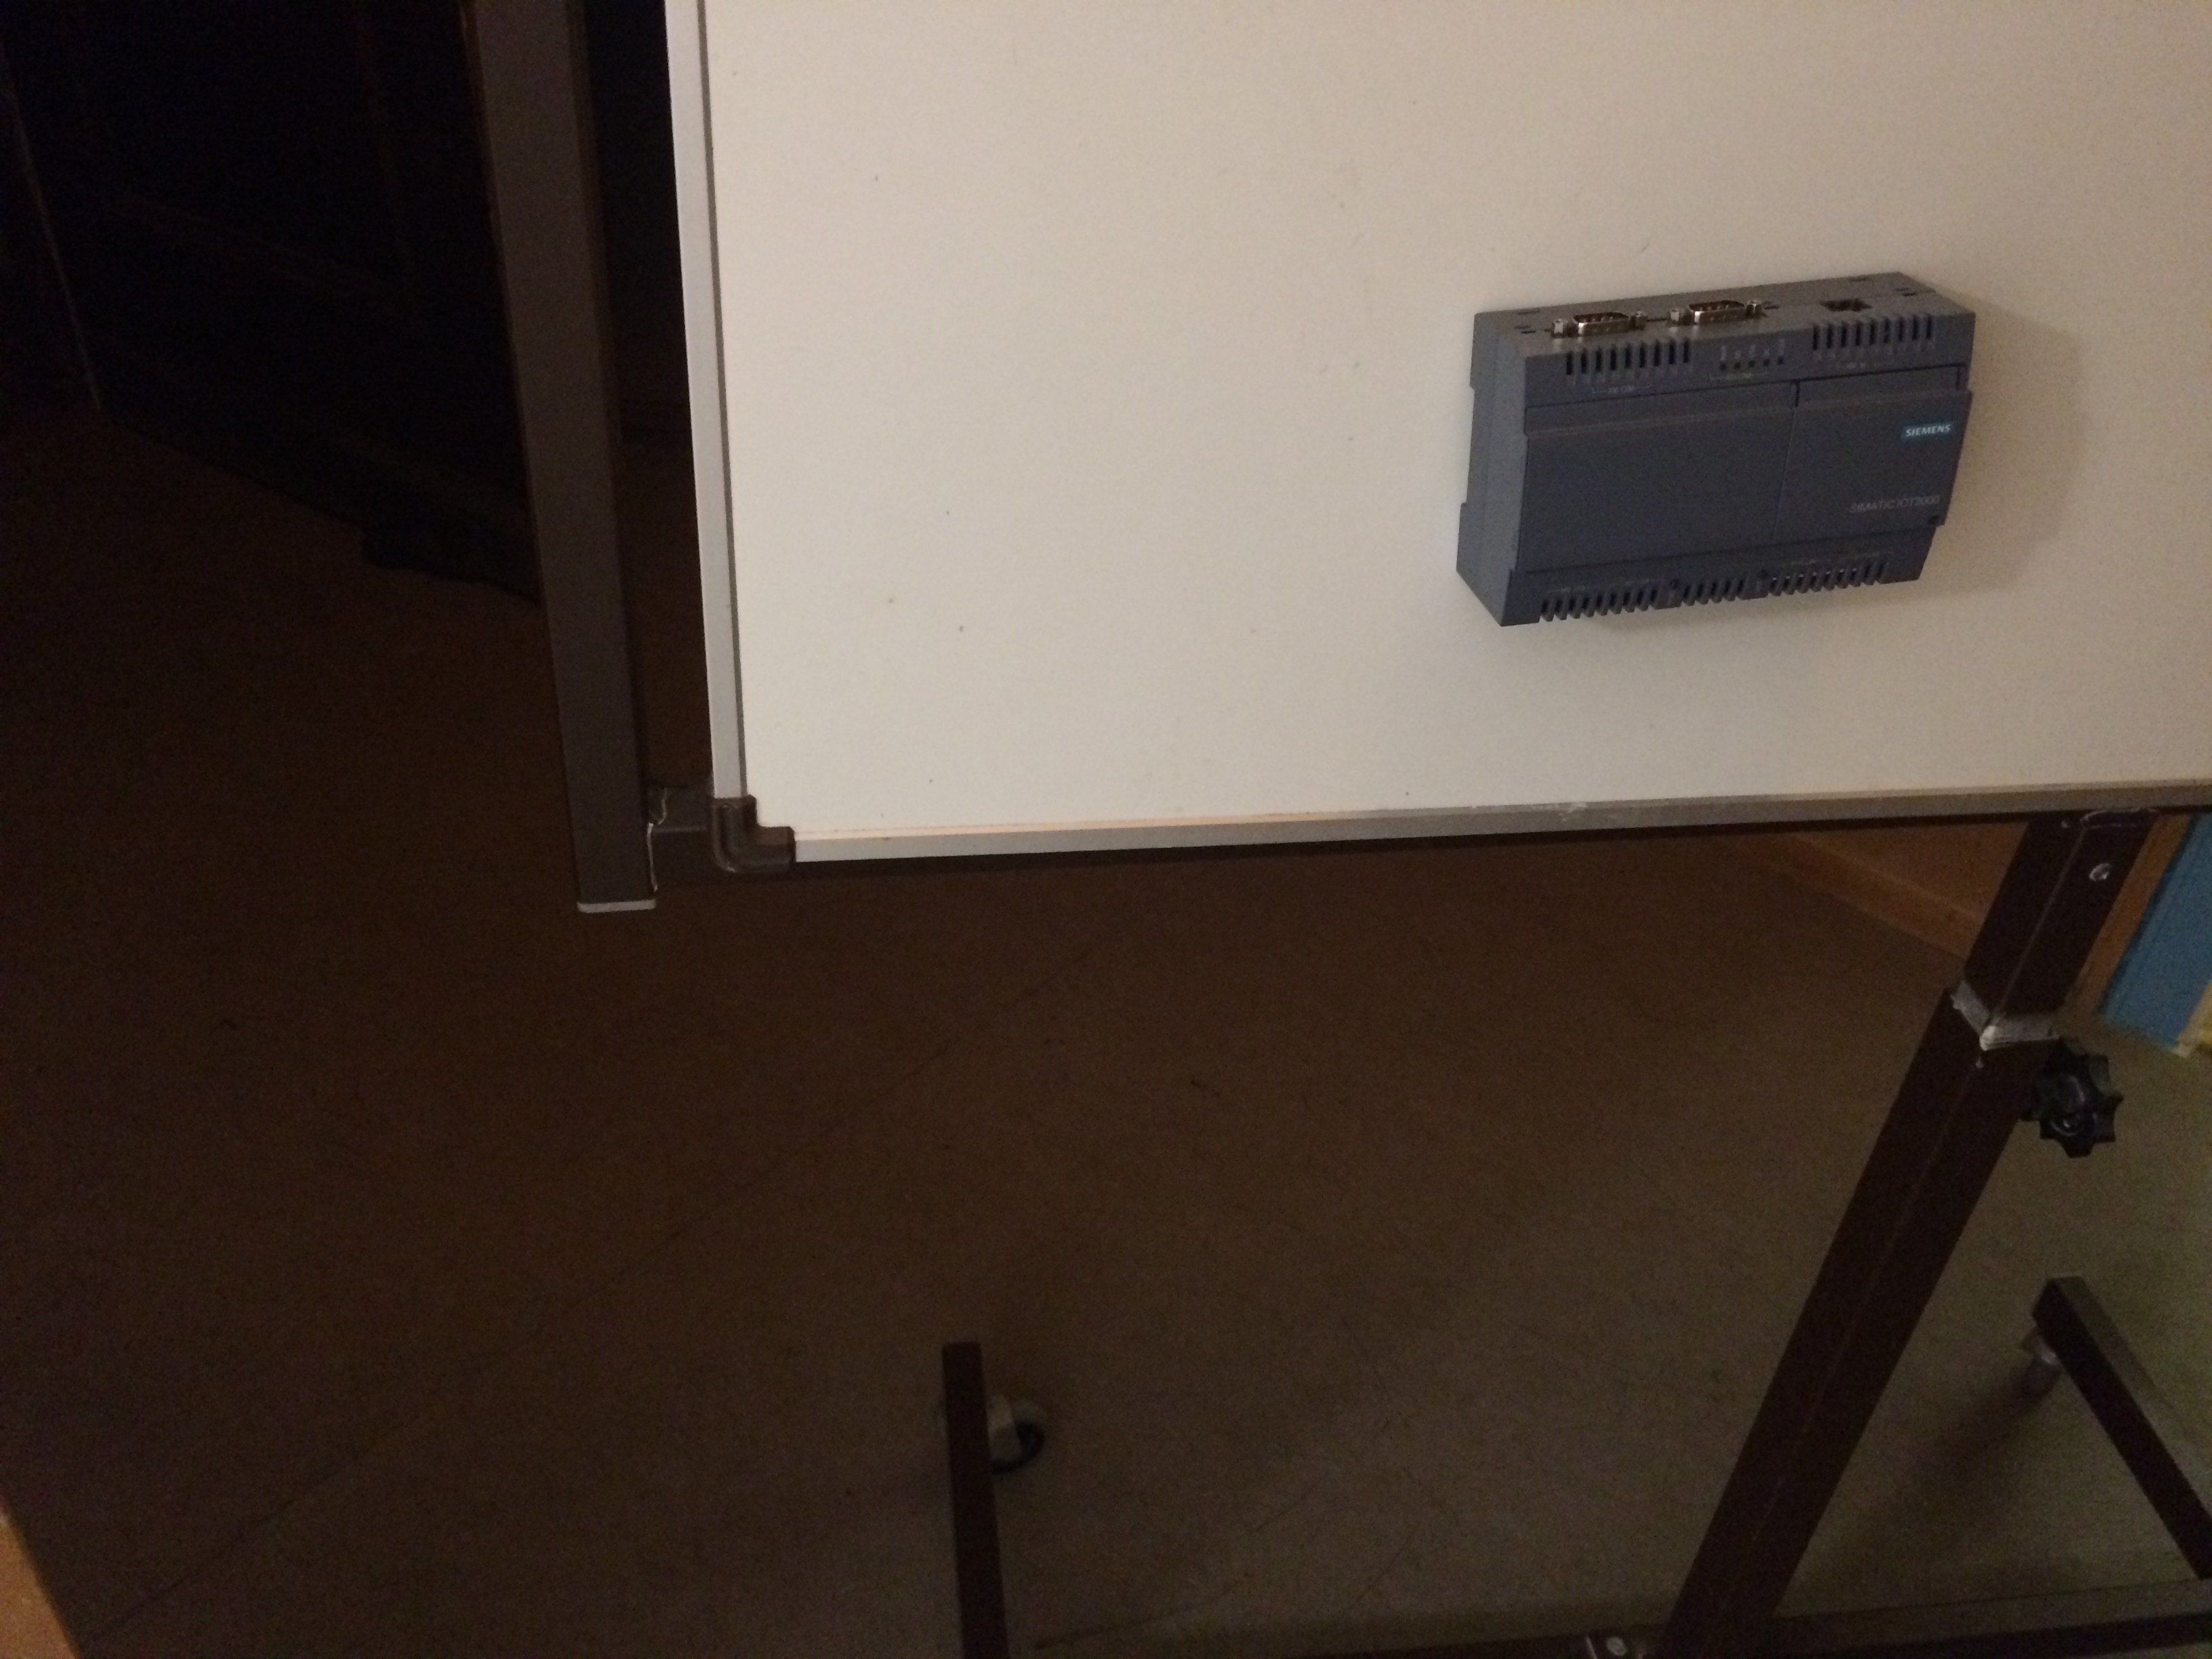iot2000: (1451, 267, 1979, 629)
